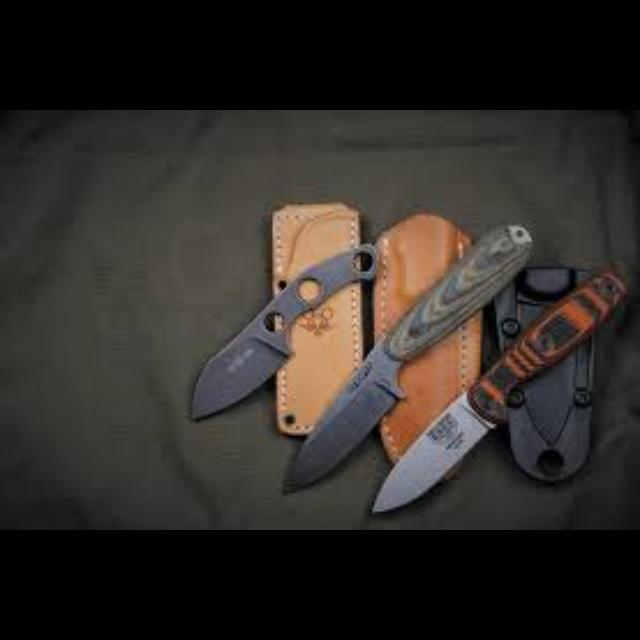knife: (280, 221, 530, 493), (370, 266, 628, 514), (188, 242, 376, 422)
